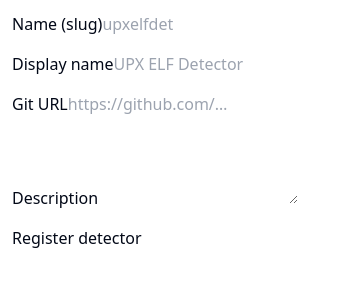
Test case: RegisterDetectorForm › rejects names that contain uppercase or punctuation
Type "Bad_Name" into the field labelled "Name (slug)" at x=218, y=24, box [102,12,333,36]
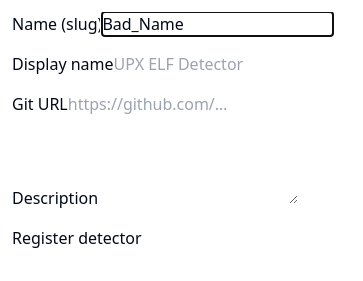
Type "Bad" into the field labelled "Display name" at x=229, y=64, box [114,52,345,76]
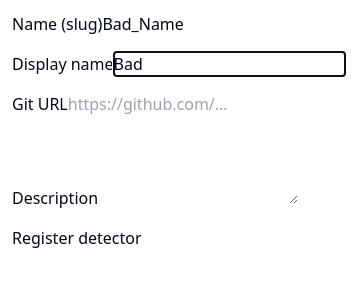
Type "https://example.com/repo.git" into the field labelled "Git URL" at x=183, y=104, box [68,92,299,116]
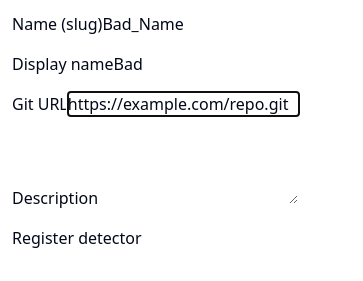
Click the button "Register detector" at x=77, y=238, box [12,226,142,250]
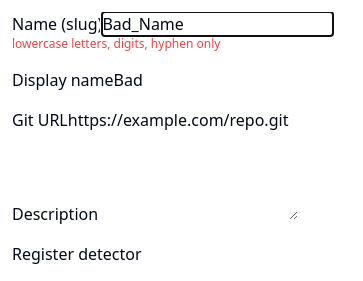
Expected: the text "lowercase letters, digits, hyphen only" is shown, [12,35,220,52]
